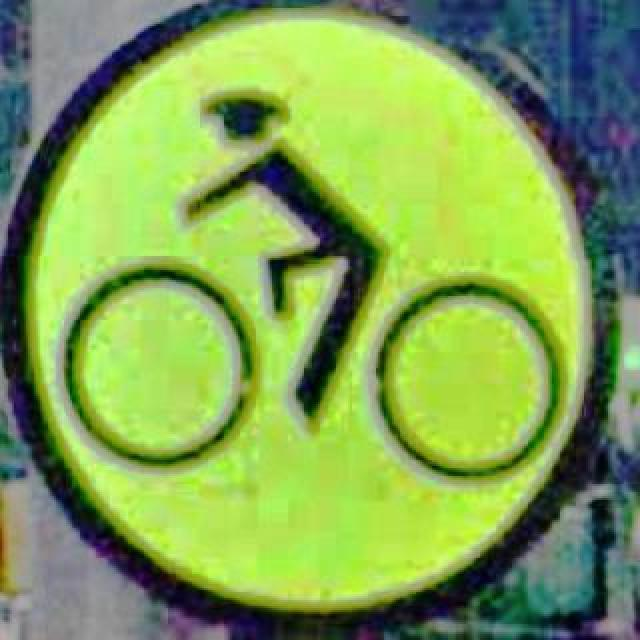bike lane: (0, 0, 620, 636)
